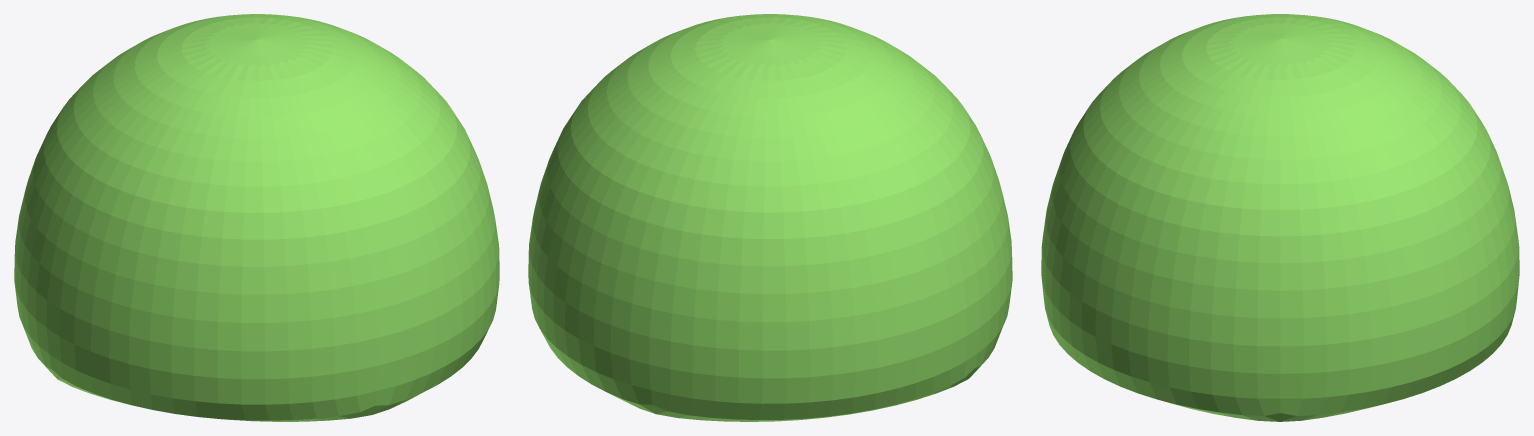
File: slime.glb
3 views of the same model, side by side, from view 1: azimuth 30°, elevation 25°; view 2: azimuth 150°, elevation 25°; view 3: azimuth 270°, elevation 25° (orthographic).
Parts seen in each view (by area): view 1: slimeBody; view 2: slimeBody; view 3: slimeBody.
Part boxes in pixels (bbox=[...]): slimeBody: bbox=[14, 14, 499, 421]; slimeBody: bbox=[528, 14, 1012, 421]; slimeBody: bbox=[1041, 14, 1519, 421].
Size of the model in its own units: 1.47 by 0.9832 by 1.47.
